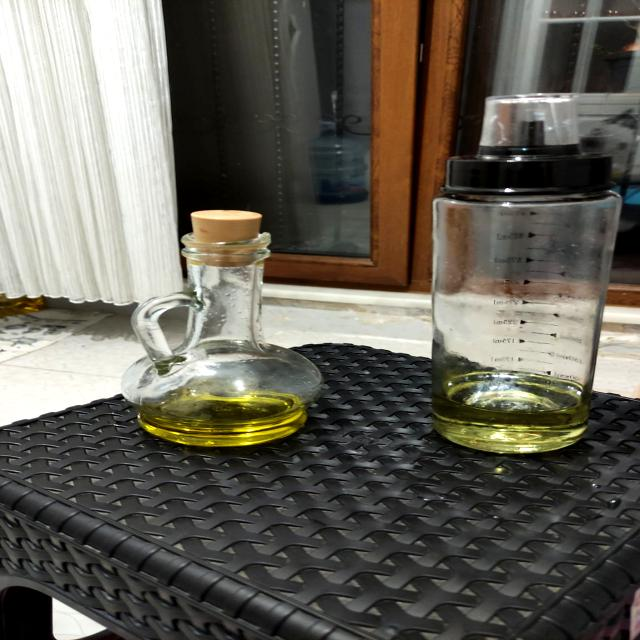olive oil: (379, 98, 631, 461), (85, 187, 342, 458)
